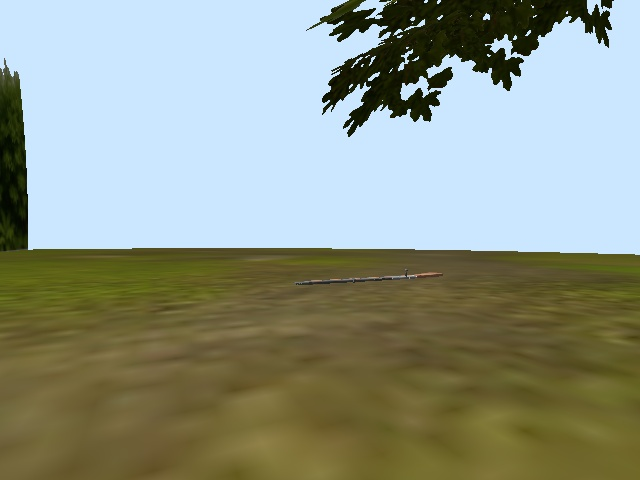rifle: (294, 269, 442, 289)
